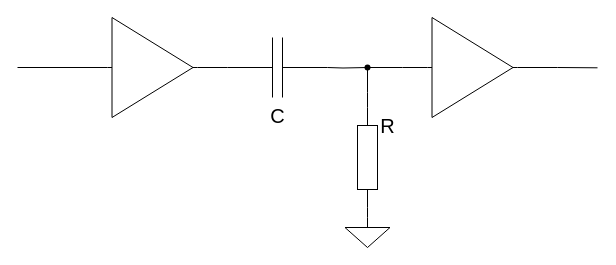
The diagram is 616 pixels wide and 265 high, and some of its shapes have lost their labels. The box of each missing label's shape, as (x1, y1, x2, y2) in pixels:
Amplifier: (426, 16, 518, 118)
Pre-amp: (106, 16, 198, 118)
